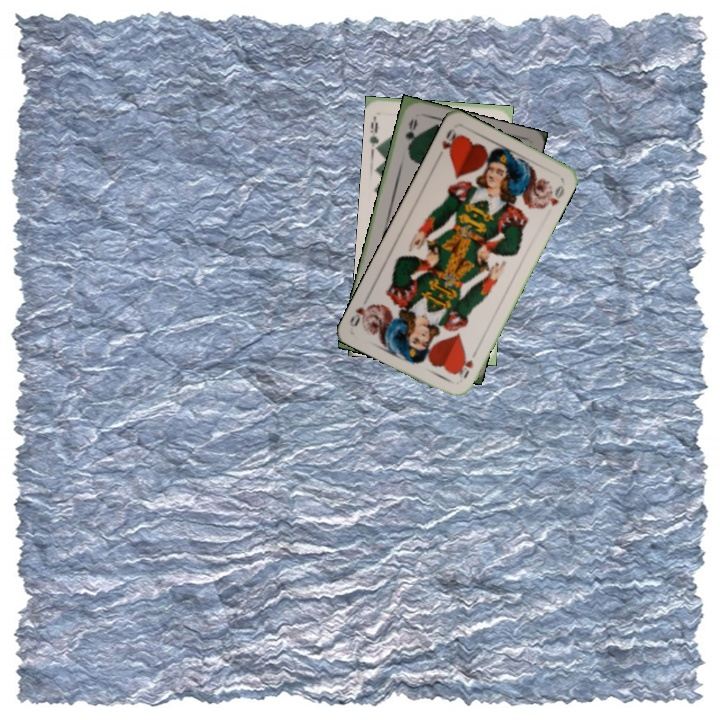G9: (366, 112, 385, 152)
GO: (401, 114, 420, 154)
HO: (437, 124, 461, 158), (453, 352, 476, 381)
